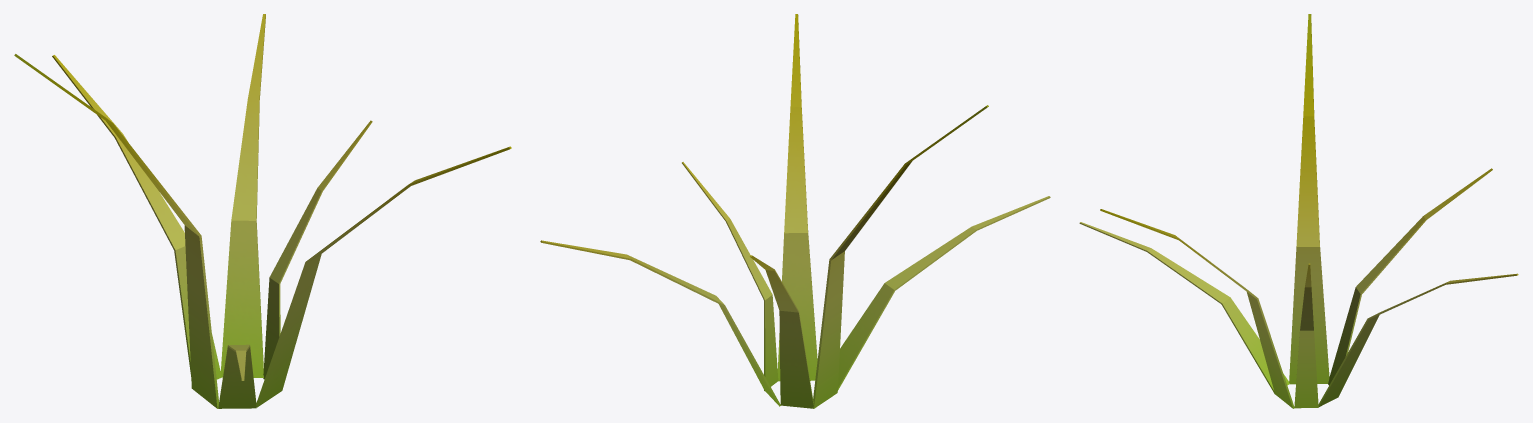
Rendered from Forest_Plant_001.FBX.
3 views of the same model, side by side, from view 1: azimuth 30°, elevation 25°; view 2: azimuth 150°, elevation 25°; view 3: azimuth 270°, elevation 25° (orthographic). The views are drawn at different scales.
Parts seen in each view (by area): view 1: Forest_Plant_001; view 2: Forest_Plant_001; view 3: Forest_Plant_001.
Boxes of the visible parts, x1=… form: Forest_Plant_001: x1=14, y1=14, x2=511, y2=408; Forest_Plant_001: x1=540, y1=14, x2=1050, y2=408; Forest_Plant_001: x1=1079, y1=14, x2=1518, y2=408.
Bounding box in the file's own units: 145 × 141 × 187.
1 material, 1 textured.
